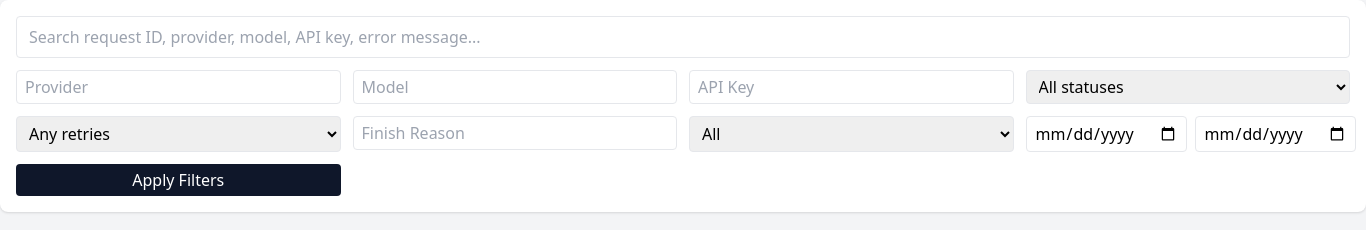
FilterPanel › filters dropdown options by typed search text
Type "anth" into the field with placeholder "Provider".
click(178, 87); type("anth")  # box 16,70 -> 340,104
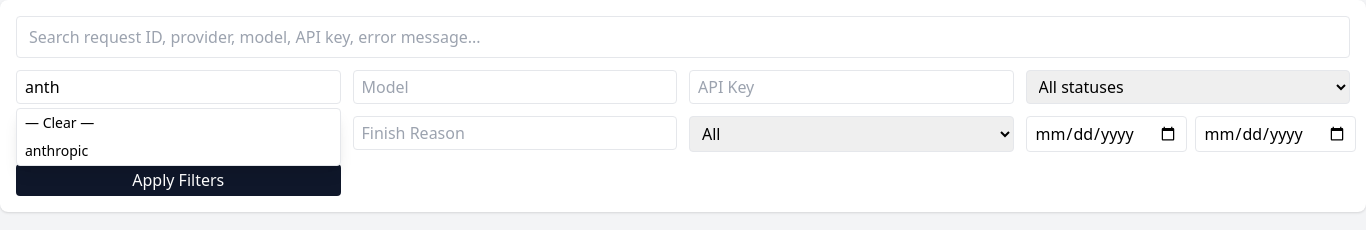
Check: the list item "anthropic" is shown, box 25,141 -> 88,160
